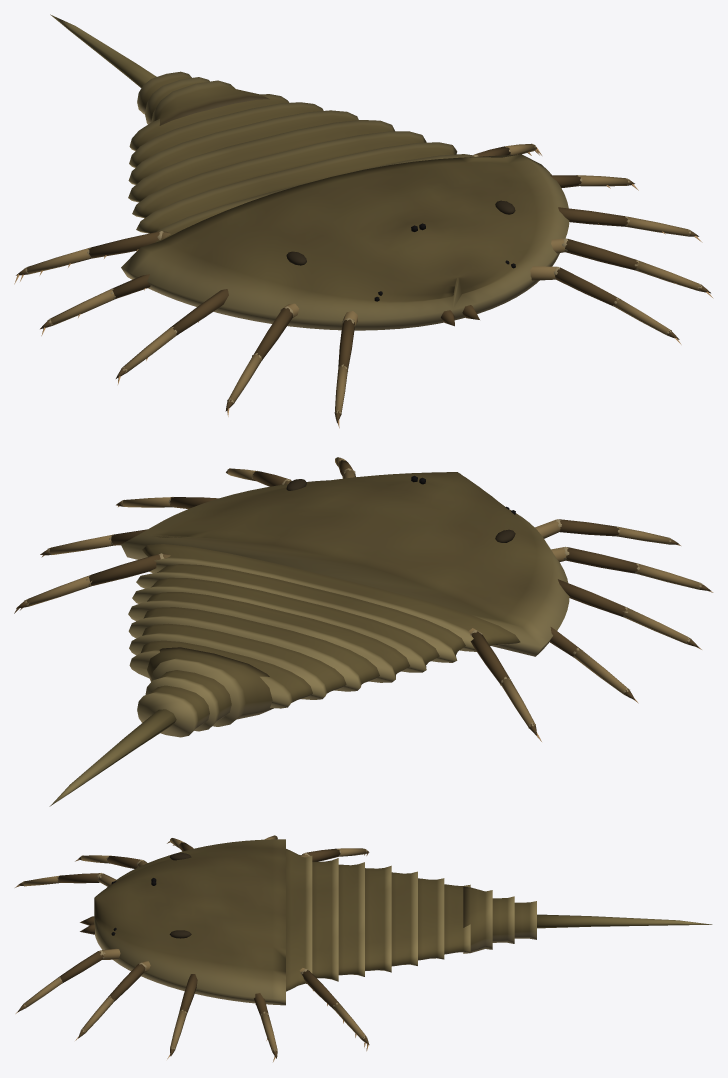
File: Weinbergina.fbx
3 renders of one model, top to bottom at view 1: azimuth 30°, elevation 25°; view 2: azimuth 150°, elevation 25°; view 3: azimuth 270°, elevation 25°, orthographic. The views are drawn at different scales.
Visible parts, largest first — view 1: Weinbergina; view 2: Weinbergina; view 3: Weinbergina.
Boxes of the visible parts, x1,y1,x2,y2 form: Weinbergina: [14, 14, 713, 428]; Weinbergina: [14, 457, 713, 806]; Weinbergina: [15, 835, 712, 1061].
Bounding box in the file's own units: 1.42 × 0.2252 × 1.9.
